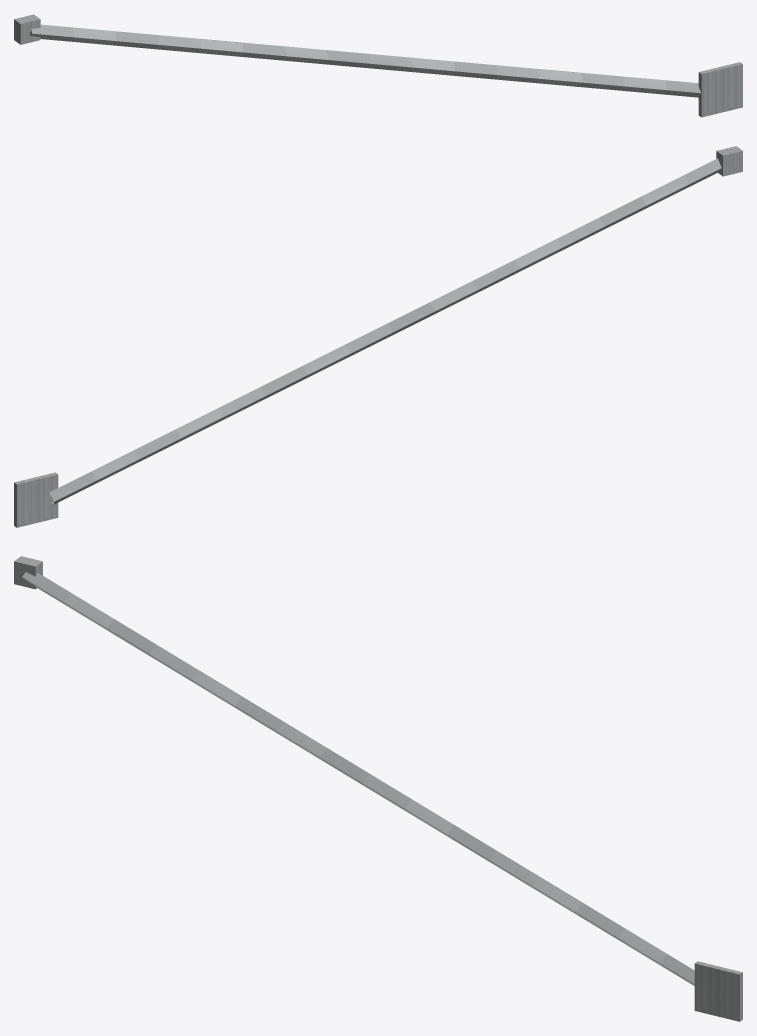
The model's file is brace_l.obj.
3 views of the same model, one above another, from view 1: azimuth 30°, elevation 25°; view 2: azimuth 210°, elevation 25°; view 3: azimuth 330°, elevation 25° (orthographic). The views are drawn at different scales.
Parts seen in each view (by area): view 1: crossarm_alley_metal_7_l; view 2: crossarm_alley_metal_7_l; view 3: crossarm_alley_metal_7_l.
Boxes of the visible parts, x1=… form: crossarm_alley_metal_7_l: x1=14, y1=14, x2=742, y2=117; crossarm_alley_metal_7_l: x1=14, y1=146, x2=742, y2=527; crossarm_alley_metal_7_l: x1=14, y1=556, x2=742, y2=1021.
Bounding box in the file's own units: 5.23 × 1.67 × 0.4625.
